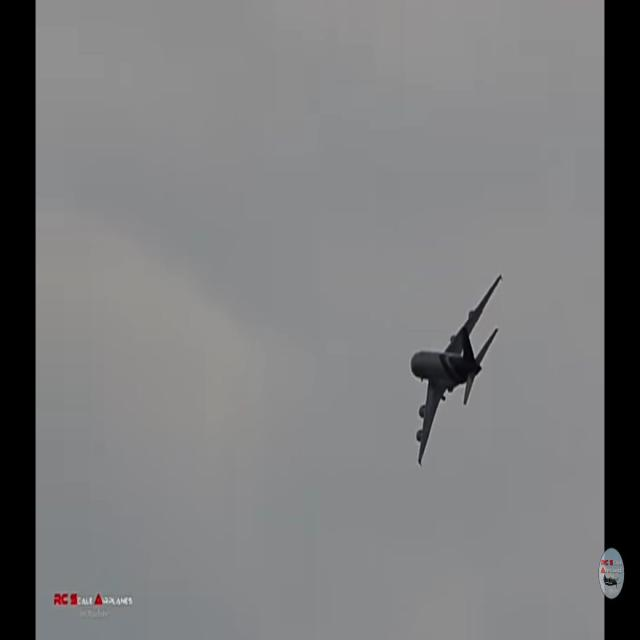iha: (436, 272, 466, 468)
